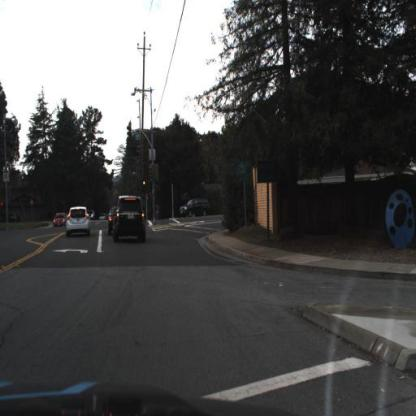car: (112, 194, 146, 244), (65, 205, 90, 237), (179, 197, 210, 219), (52, 211, 66, 227)
trafficLight-Red: (140, 178, 148, 192)
